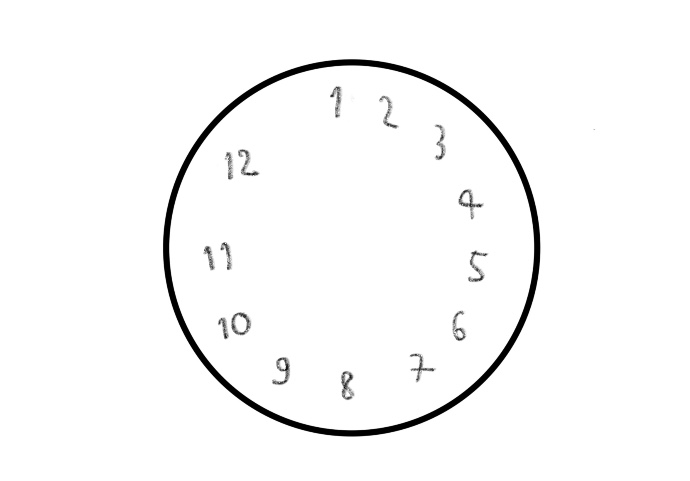eight: (334, 368, 359, 402)
eleven: (202, 235, 237, 274)
five: (467, 243, 490, 286)
four: (454, 184, 484, 223)
nine: (266, 356, 295, 387)
one: (327, 83, 347, 118)
seven: (408, 348, 437, 388)
six: (449, 303, 471, 348)
ten: (213, 312, 255, 340)
three: (431, 119, 448, 166)
twelve: (221, 147, 260, 184)
two: (378, 89, 402, 133)
